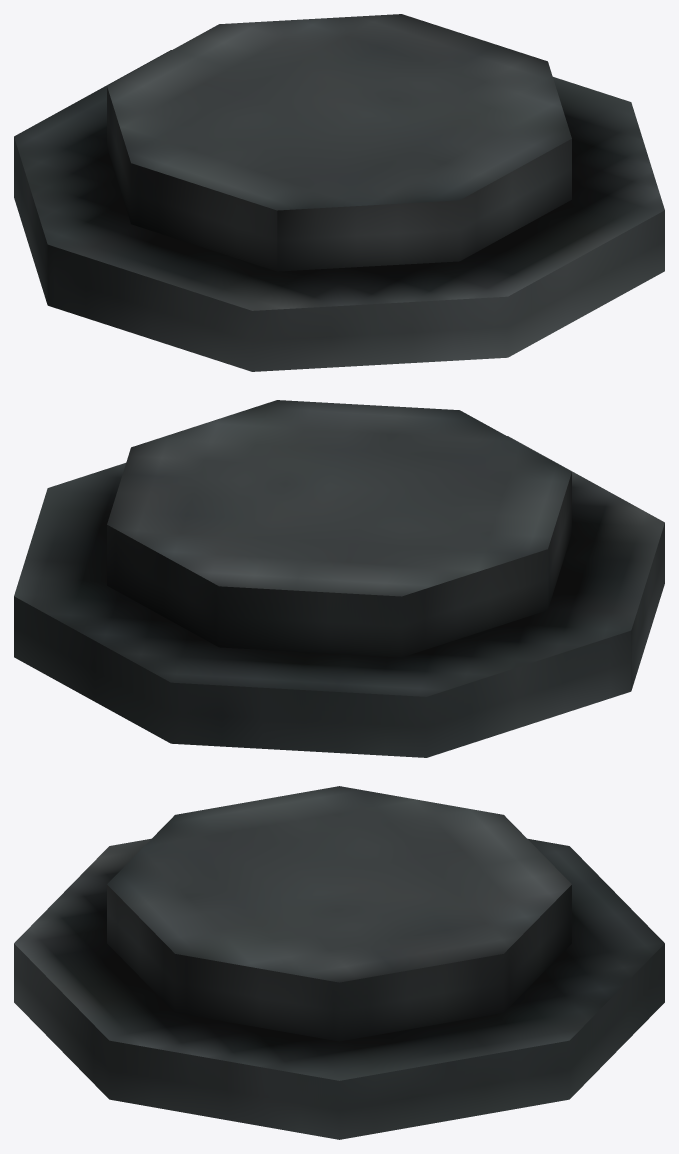
File: Roof_WaterlinkBase.FBX
The picture shows the model from 3 angles, top to bottom: view 1: azimuth 30°, elevation 25°; view 2: azimuth 150°, elevation 25°; view 3: azimuth 270°, elevation 25°; orthographic projection. The views are drawn at different scales.
Parts seen in each view (by area): view 1: Roof_WaterlinkBase; view 2: Roof_WaterlinkBase; view 3: Roof_WaterlinkBase.
Boxes of the visible parts, <box> form: Roof_WaterlinkBase: <box>14,14,664,371</box>; Roof_WaterlinkBase: <box>14,400,664,757</box>; Roof_WaterlinkBase: <box>14,786,664,1139</box>.
Size of the model in its own units: 1.4 by 0.28 by 1.4.
